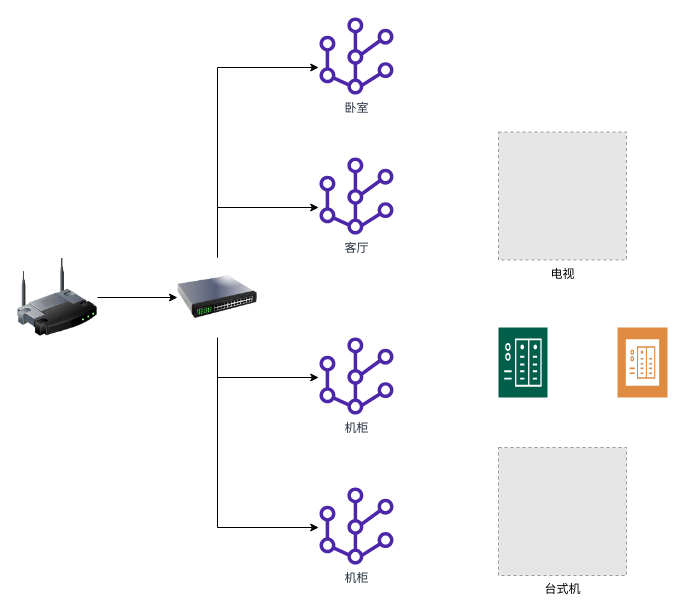
This 684x613 diagram has some shape labels left out. Grey dashed boxes stand in for pictures. Here are the shapes that lost their labels. From the top down, the centre of each, then its label:
At point 522,362: "PVE".
At point 642,362: "nas备份".
